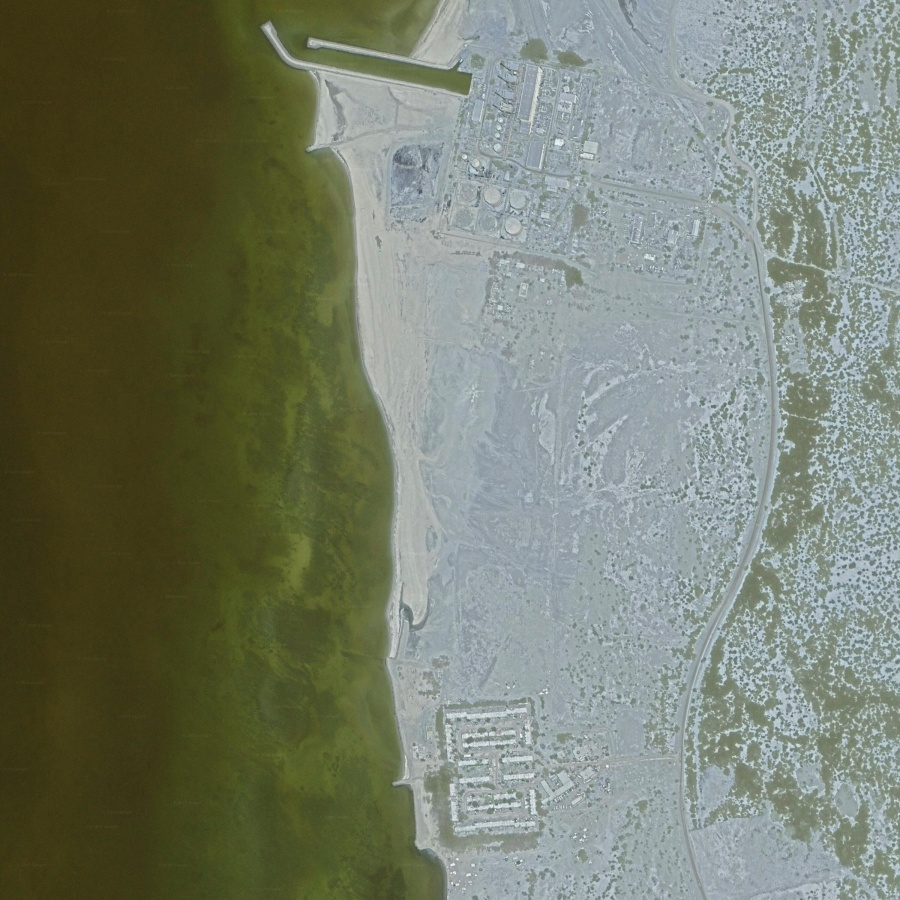PowerPlant: (379, 50, 607, 253)
